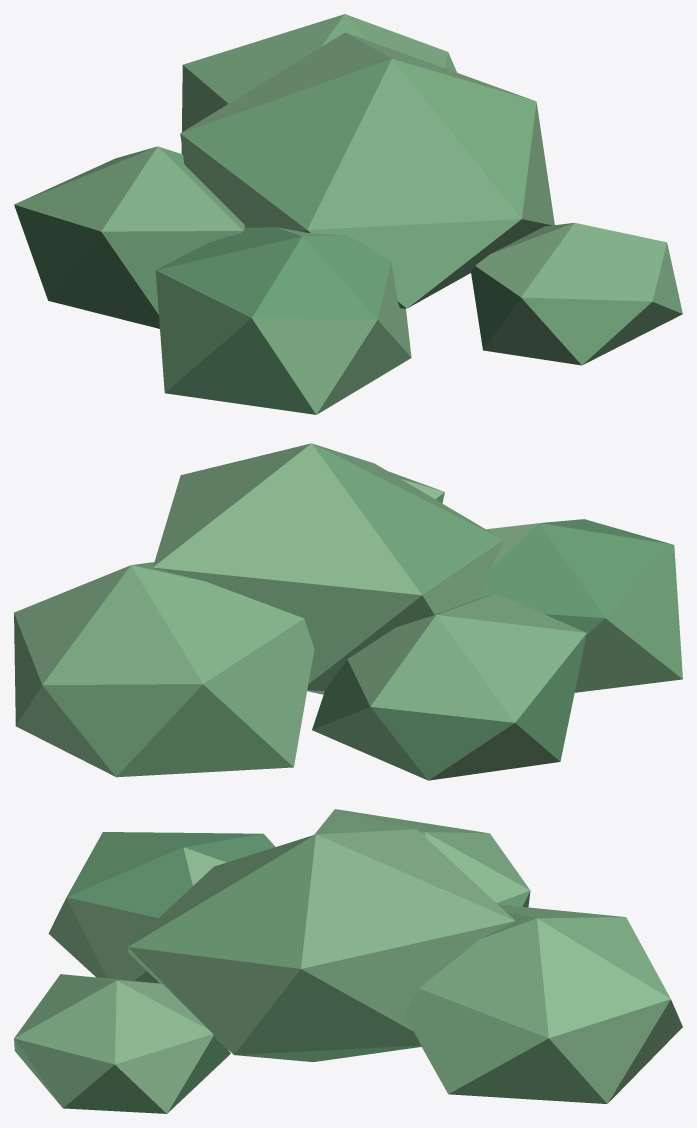
Rendered from bush-01.glb.
The picture shows the model from 3 angles, top to bottom: view 1: azimuth 30°, elevation 25°; view 2: azimuth 150°, elevation 25°; view 3: azimuth 270°, elevation 25°; orthographic projection. The views are drawn at different scales.
Visible parts, largest first — view 1: bush_01; view 2: bush_01; view 3: bush_01.
Boxes of the visible parts, x1=… form: bush_01: x1=14, y1=14, x2=682, y2=414; bush_01: x1=14, y1=443, x2=682, y2=780; bush_01: x1=14, y1=809, x2=682, y2=1113.
Size of the model in its own units: 0.6806 by 0.3393 by 0.8527.
